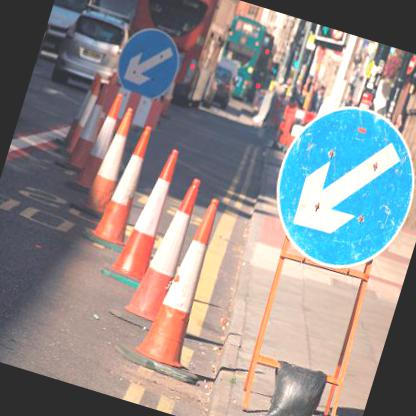cone: (138, 188, 232, 368), (124, 170, 210, 326), (112, 139, 188, 280), (94, 121, 159, 245), (83, 102, 140, 216), (76, 89, 126, 192), (66, 82, 114, 174), (68, 75, 106, 150)
